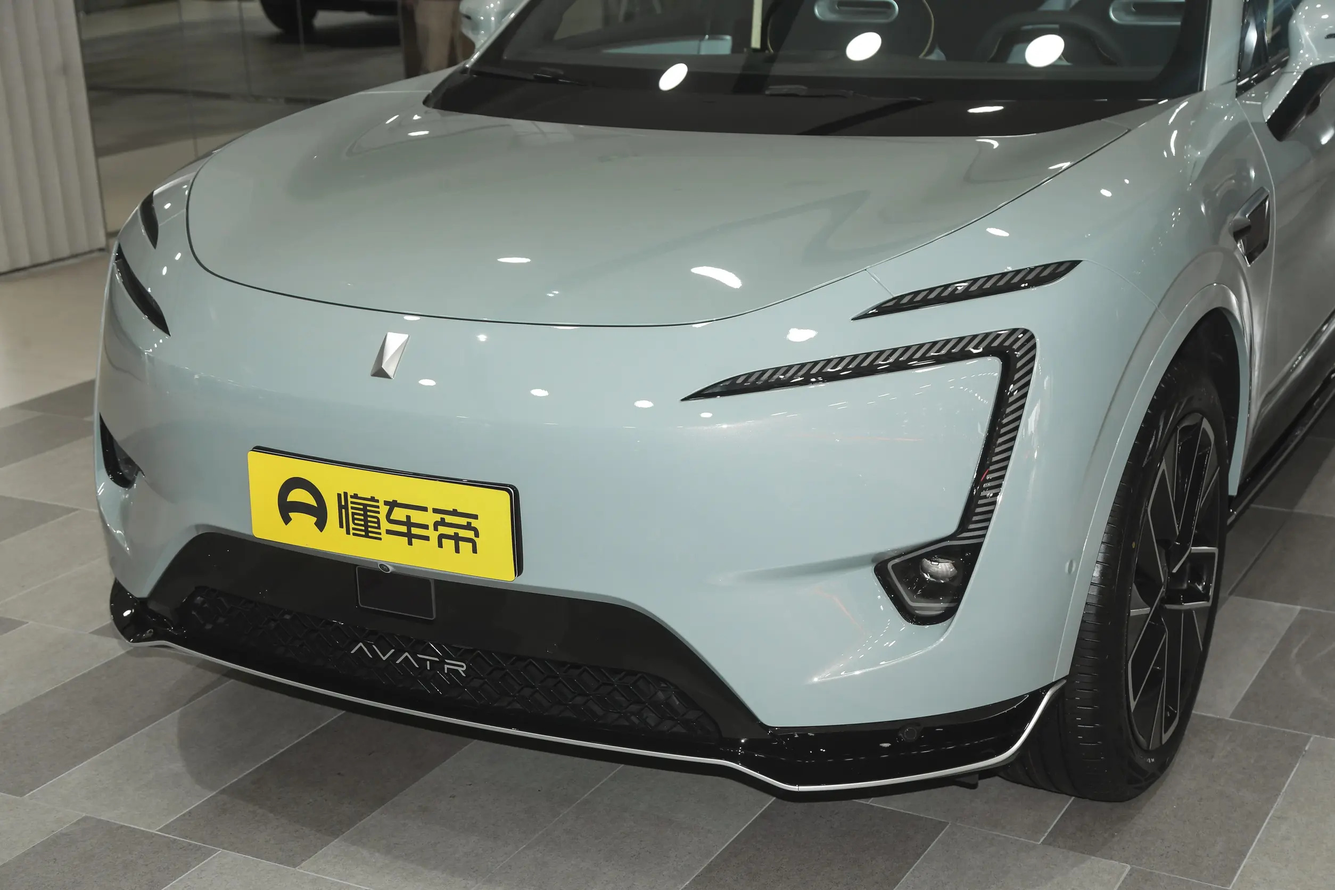AVATR: (370, 332, 409, 379)
